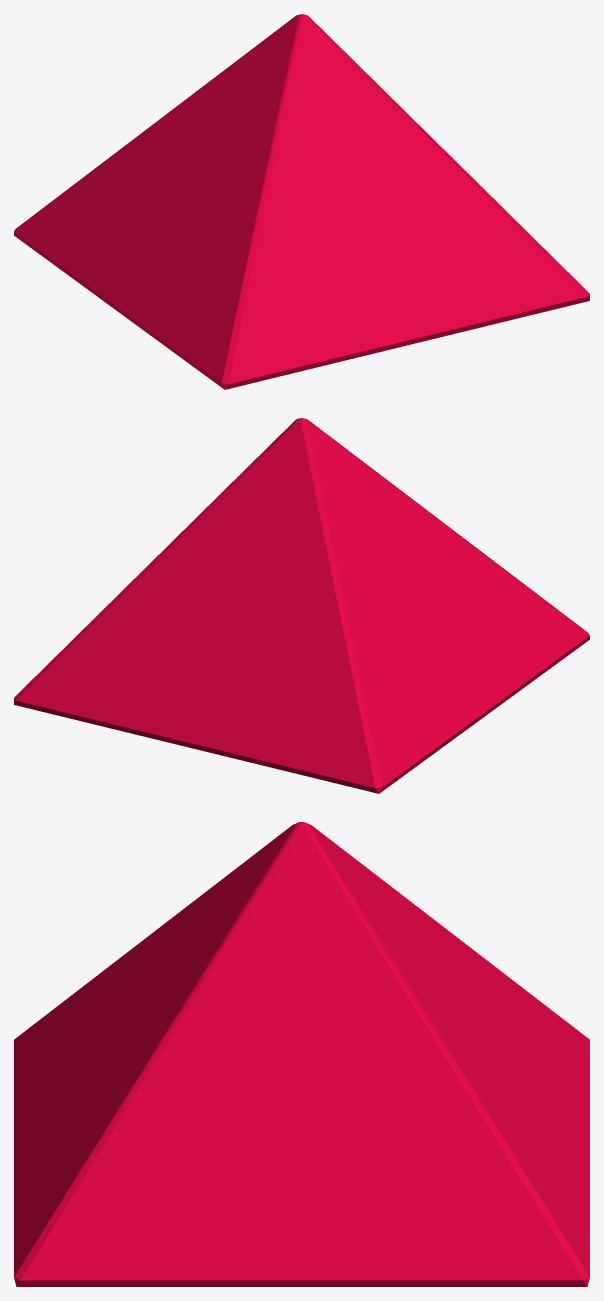
The model's file is Logic_Pyramid_01.fbx.
The picture shows the model from 3 angles, top to bottom: view 1: azimuth 30°, elevation 25°; view 2: azimuth 150°, elevation 25°; view 3: azimuth 270°, elevation 25°; orthographic projection. The views are drawn at different scales.
Visible parts, largest first — view 1: Logic_Pyramid_01; view 2: Logic_Pyramid_01; view 3: Logic_Pyramid_01.
Boxes of the visible parts, x1,y1,x2,y2 form: Logic_Pyramid_01: [14, 14, 589, 389]; Logic_Pyramid_01: [14, 418, 589, 793]; Logic_Pyramid_01: [14, 822, 589, 1286].
Bounding box in the file's own units: 3.65 × 2.4 × 3.65.
